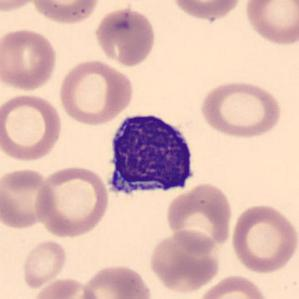Lymphocyte: (100, 105, 201, 206)
RBC: (33, 164, 111, 239), (57, 58, 136, 126), (198, 78, 284, 140), (164, 180, 234, 255), (228, 202, 298, 275), (147, 227, 223, 294), (0, 92, 65, 164), (92, 5, 158, 68), (0, 27, 60, 94), (0, 166, 57, 231), (78, 261, 155, 299), (242, 0, 298, 48), (20, 238, 68, 290), (194, 272, 271, 299), (31, 0, 101, 26), (29, 275, 100, 299), (169, 0, 244, 22), (0, 0, 43, 14)
